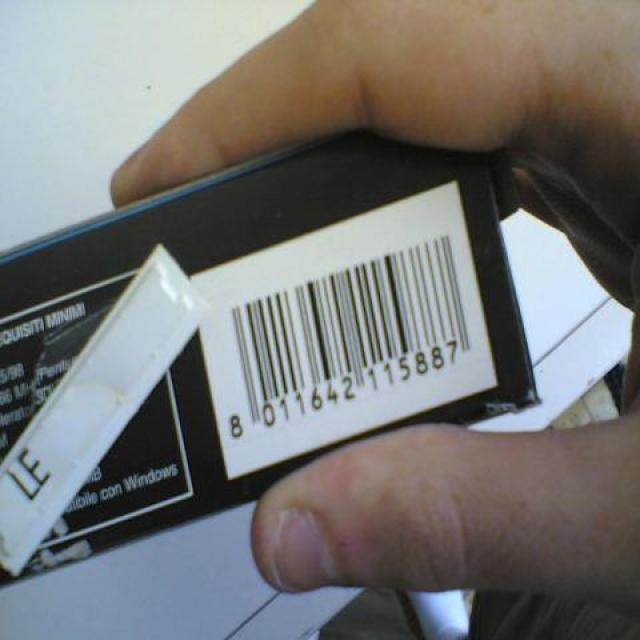Barcode: (191, 182, 498, 478)
